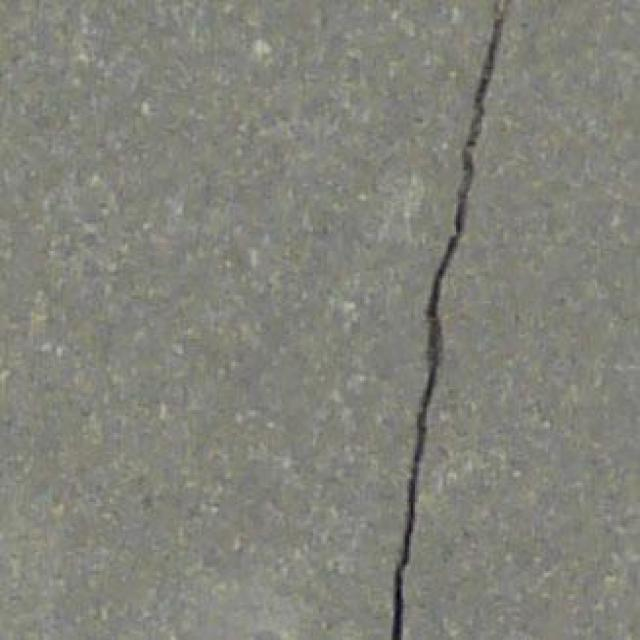diagonal crack: (388, 0, 503, 638)
